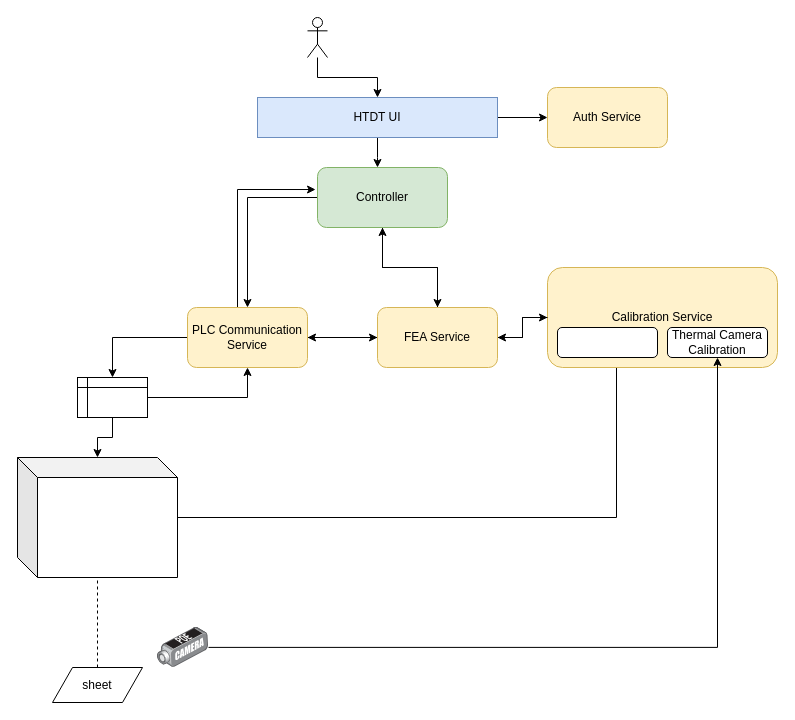
This 795x720 diagram has some shape labels left out. The shapes that lost their labels are listed below. From the top down, each one's centre as x and y in pixels, then its label:
At point (317, 37): "User".
At point (607, 342): "Thermo-couple Calibration".
At point (112, 397): "PLC".
At point (97, 517): "Thermoforming Machine".
